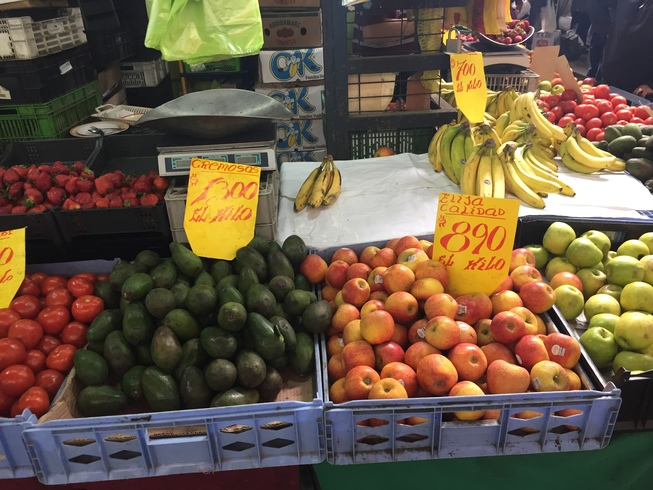precio: (180, 158, 260, 253), (437, 191, 519, 283), (449, 54, 491, 118), (1, 227, 28, 312)
